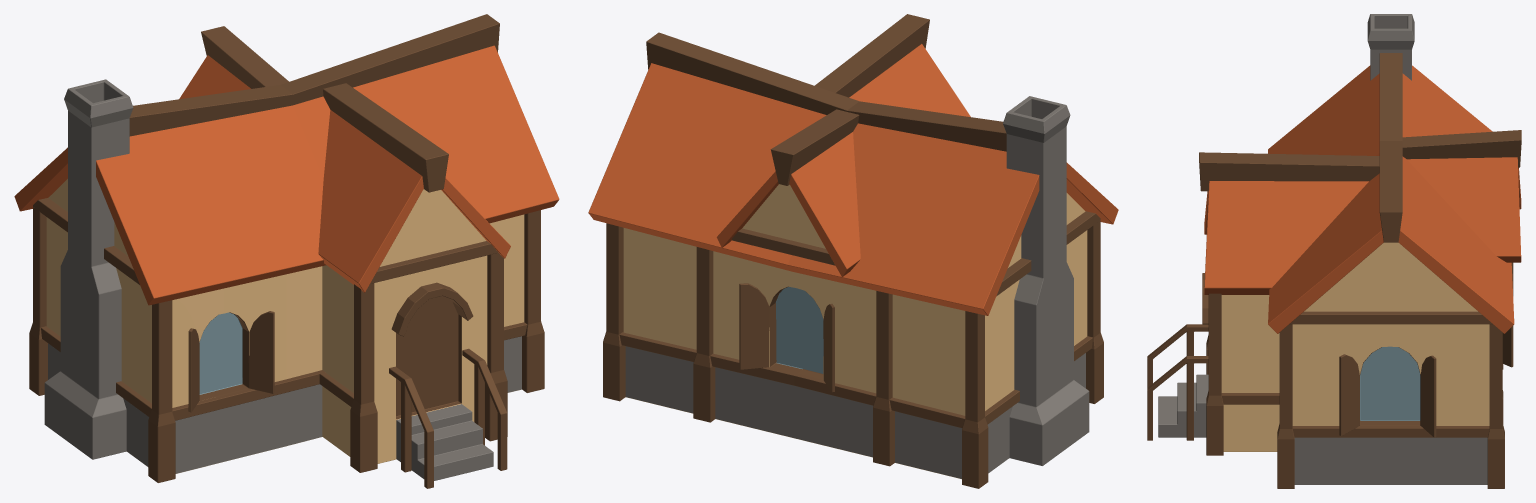
File: Greed_house_1.fbx
3 views of the same model, side by side, from view 1: azimuth 30°, elevation 25°; view 2: azimuth 150°, elevation 25°; view 3: azimuth 270°, elevation 25° (orthographic). The views are drawn at different scales.
Parts seen in each view (by area): view 1: VillageHouse_3; view 2: VillageHouse_3; view 3: VillageHouse_3.
Part boxes in pixels (x1,y1,x2,y2): VillageHouse_3: (14,14,559,488); VillageHouse_3: (588,14,1118,488); VillageHouse_3: (1147,14,1521,488).
Size of the model in its own units: 8.52 by 6.48 by 7.27.
